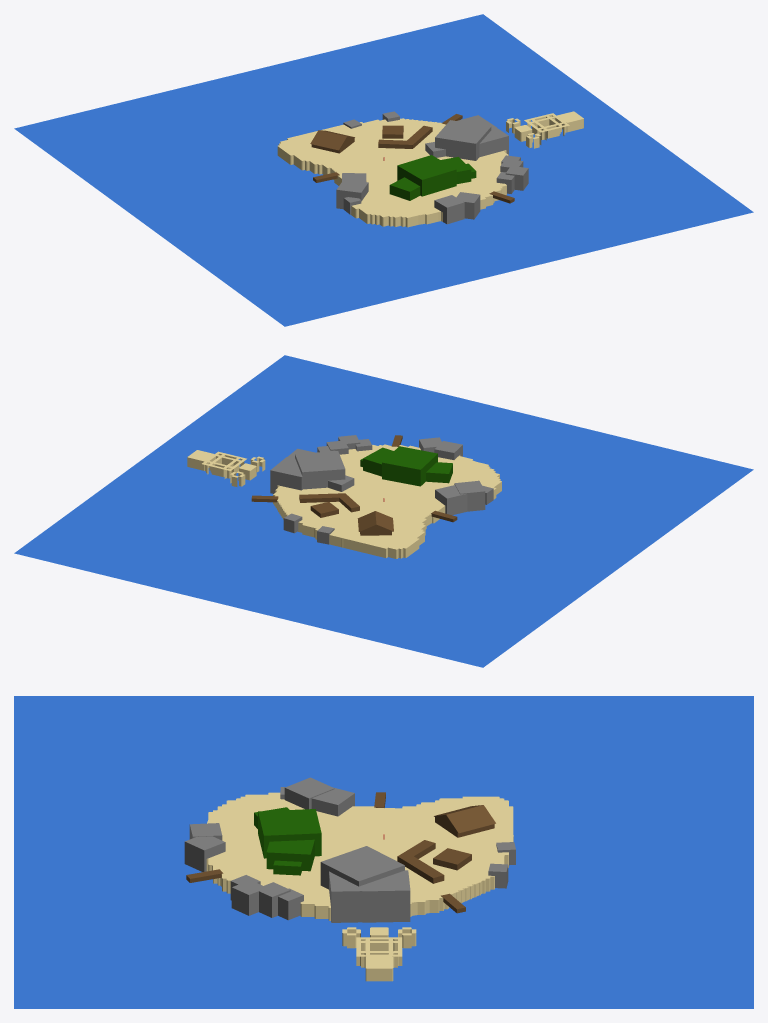
File: map_idea.fbx
3 renders of one model, top to bottom at view 1: azimuth 30°, elevation 25°; view 2: azimuth 150°, elevation 25°; view 3: azimuth 270°, elevation 25°, orthographic. The views are drawn at different scales.
Parts seen in each view (by area): view 1: Water Plane, Cube.005, Cube.015, Cube.007, Cube.003, Cube.014, Cube.023, Cube.001; view 2: Water Plane, Cube.005, Cube.015, Cube.013, Cube.004, Cube.003, Cube.023; view 3: Water Plane, Cube.013, Cube.015, Cube.005, Cube.014, Cube.006, Cube.023, Cube.008, Cube.003, Cube.004, Cube.010, Cube.011 (+3 smaller).
Boxes of the visible parts, box(x1,y1,x2,y2) form: Water Plane: box(14, 14, 753, 326); Cube.005: box(397, 155, 456, 196); Cube.015: box(435, 120, 491, 160); Cube.007: box(434, 195, 464, 224); Cube.003: box(336, 179, 368, 209); Cube.014: box(479, 128, 508, 157); Cube.023: box(310, 130, 354, 150); Cube.001: box(389, 177, 420, 200); Water Plane: box(14, 355, 753, 667); Cube.005: box(382, 446, 437, 486); Cube.015: box(295, 451, 345, 489); Cube.013: box(270, 457, 302, 493); Cube.004: box(435, 485, 467, 515); Cube.003: box(454, 480, 485, 511); Cube.023: box(357, 511, 393, 531); Water Plane: box(14, 696, 753, 1008); Cube.013: box(361, 870, 410, 922); Cube.015: box(320, 846, 404, 889); Cube.005: box(258, 809, 321, 858); Cube.014: box(329, 871, 378, 922); Cube.006: box(266, 839, 314, 871); Cube.023: box(434, 805, 495, 833); Cube.008: box(184, 836, 225, 871); Cube.003: box(284, 777, 334, 809); Cube.004: box(311, 788, 354, 816); Cube.010: box(231, 880, 266, 915); Cube.011: box(259, 882, 290, 917).
Bounding box in the file's own units: 80005 × 6460 × 80005.
